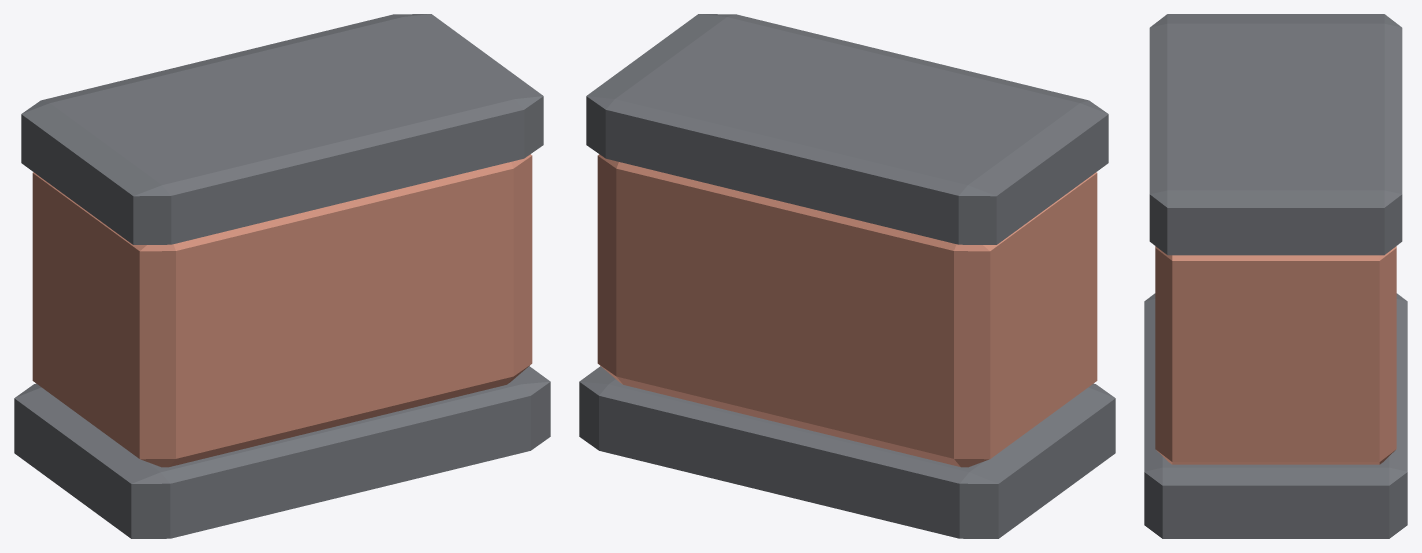
File: b11_brick_backyard_barbecue.glb
The picture shows the model from 3 angles, left to right: view 1: azimuth 30°, elevation 25°; view 2: azimuth 150°, elevation 25°; view 3: azimuth 270°, elevation 25°; orthographic projection. The views are drawn at different scales.
Visible parts, largest first — view 1: b11_brick_backyard_barbecue; view 2: b11_brick_backyard_barbecue; view 3: b11_brick_backyard_barbecue.
Part boxes in pixels (<box>): b11_brick_backyard_barbecue: <box>14,14,550,538</box>; b11_brick_backyard_barbecue: <box>579,14,1115,538</box>; b11_brick_backyard_barbecue: <box>1144,14,1407,538</box>.
Bounding box in the file's own units: 1.6 × 1.27 × 0.9.
